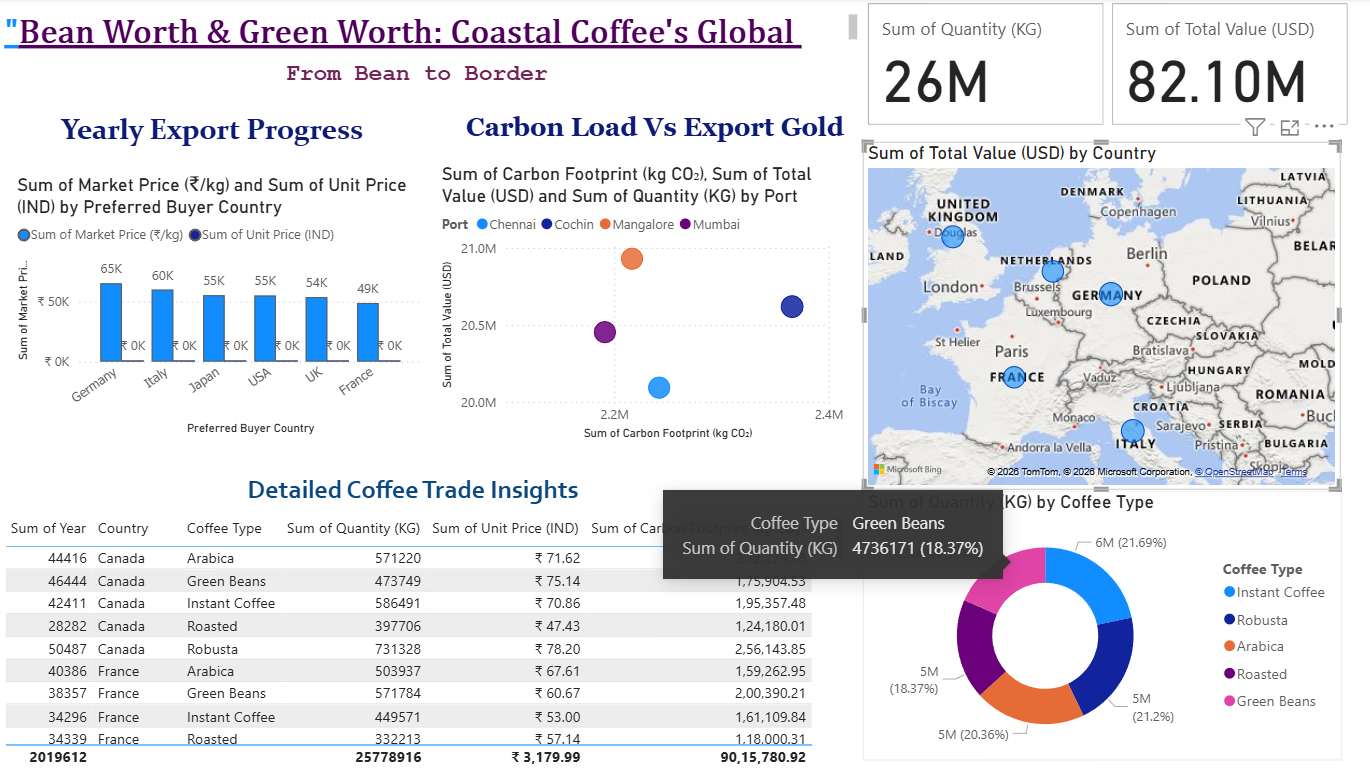

The dashboard page shown, as its layout file describes it:
{"tool":"powerbi","page":{"name":"Coffee_Export_Performance","canvas":[1280,720],"ordinal":0},"visuals":[{"type":"clusteredColumnChart","fields":{"Category":["Coastal Export.Preferred Buyer Country"],"Y":["Sum(Coastal Export.Market Price (₹/kg))","Sum(IndiaTrade.Unit Price (USD))"]},"box":[6.6,152.3,395.9,263.5],"z":0},{"type":"scatterChart","fields":{"X":["Sum(IndiaTrade.Carbon Footprint (kg CO₂))"],"Size":["Sum(IndiaTrade.Quantity (KG))"],"Y":["Sum(IndiaTrade.Total Value (USD))"],"Series":["IndiaTrade.Port"]},"box":[406.5,152.3,383.9,263.5],"z":1000},{"type":"textbox","box":[406.5,100.6,406.5,51.6],"z":2000},{"type":"map","fields":{"Category":["IndiaTrade.Country"],"Size":["Sum(IndiaTrade.Total Value (USD))"]},"box":[803.6,133.7,443.5,324.4],"z":3000},{"type":"tableEx","fields":{"Values":["Sum(IndiaTrade.Year)","IndiaTrade.Country","IndiaTrade.Coffee Type","Sum(IndiaTrade.Quantity (KG))","Sum(IndiaTrade.Unit Price (IND))","Sum(IndiaTrade.Carbon Footprint (kg CO₂))"]},"box":[0,476.6,790.4,243.6],"z":4000},{"type":"donutChart","fields":{"Y":["Sum(IndiaTrade.Quantity (KG))"],"Category":["IndiaTrade.Coffee Type"]},"box":[803.6,458.1,444.9,251.6],"z":5000},{"type":"cardVisual","fields":{"Data":["Sum(IndiaTrade.Quantity (KG))","Sum(IndiaTrade.Total Value (USD))"]},"box":[803.6,0,456.8,123.1],"z":6000},{"type":"textbox","box":[0,10.6,803.6,51.6],"z":7000},{"type":"textbox","box":[0,53,777.2,47.7],"z":8000},{"type":"textbox","box":[6.6,436.9,761.3,42.4],"z":9000},{"type":"textbox","box":[6.6,100.6,382.6,64.9],"z":10000}]}

Visuals, with their boxes in screenshot pixels (x1, y1, x2, y2), scaled from the page's 1280x720 canvas onto the 1370x771 screenshot:
clusteredColumnChart - Coastal Export.Preferred Buyer Country x Sum(Coastal Export.Market Price (₹/kg)): rect(7, 163, 431, 445)
scatterChart - Sum(IndiaTrade.Carbon Footprint (kg CO₂)) x Sum(IndiaTrade.Quantity (KG)): rect(435, 163, 846, 445)
textbox: rect(435, 108, 870, 163)
map - IndiaTrade.Country x Sum(IndiaTrade.Total Value (USD)): rect(860, 143, 1335, 491)
tableEx - Sum(IndiaTrade.Year) x IndiaTrade.Country: rect(0, 510, 846, 770)
donutChart - Sum(IndiaTrade.Quantity (KG)) x IndiaTrade.Coffee Type: rect(860, 491, 1336, 760)
cardVisual - Sum(IndiaTrade.Quantity (KG)) x Sum(IndiaTrade.Total Value (USD)): rect(860, 0, 1349, 132)
textbox: rect(0, 11, 860, 67)
textbox: rect(0, 57, 832, 108)
textbox: rect(7, 468, 822, 513)
textbox: rect(7, 108, 417, 177)
